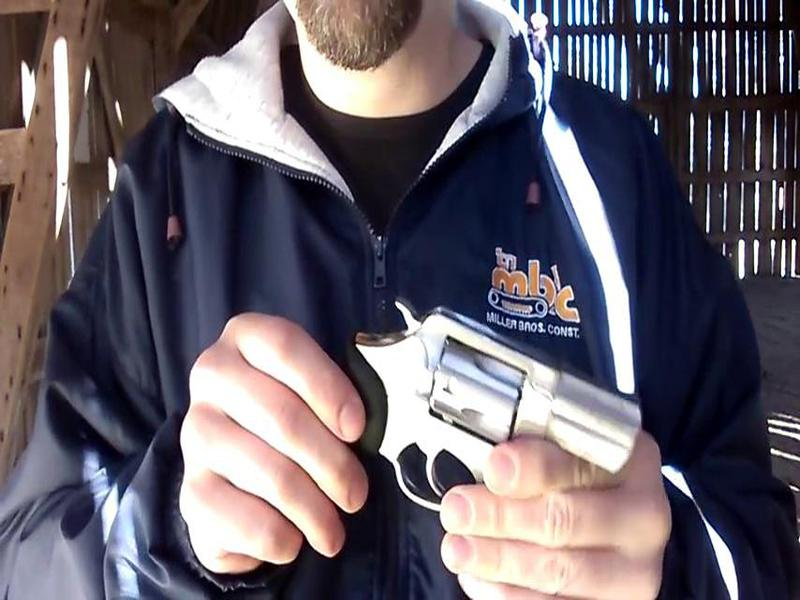Revolver: (336, 280, 652, 520)
